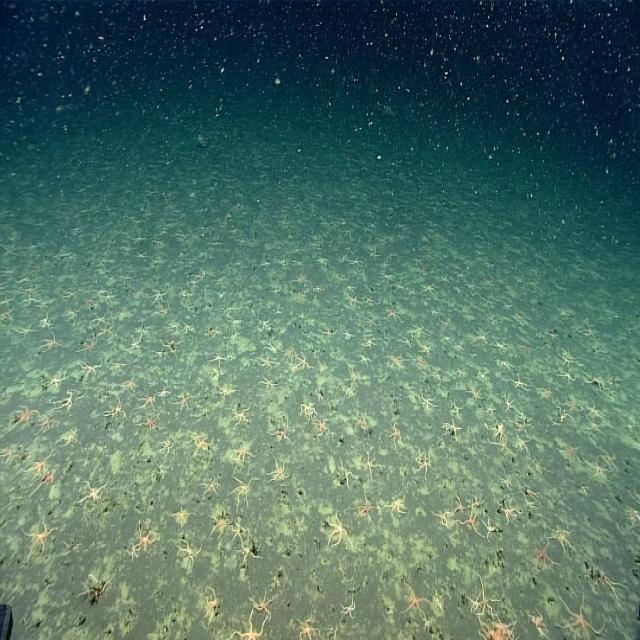brittle-stars: (556, 583, 608, 640), (22, 518, 55, 558), (581, 451, 615, 488), (224, 614, 270, 640), (76, 572, 115, 601), (400, 580, 428, 620), (452, 504, 486, 535), (601, 570, 628, 608), (326, 513, 352, 551), (475, 578, 501, 616), (529, 536, 556, 572), (247, 586, 275, 620), (290, 615, 326, 640), (350, 493, 376, 527), (228, 475, 257, 505), (79, 480, 108, 508), (176, 538, 202, 568), (266, 456, 293, 484), (135, 520, 157, 553), (506, 367, 532, 394), (525, 611, 549, 640), (14, 403, 38, 431), (554, 528, 577, 557), (498, 501, 522, 526), (584, 374, 612, 395), (202, 591, 220, 623), (414, 450, 432, 481), (340, 458, 358, 489), (197, 477, 220, 501), (429, 506, 453, 529), (27, 458, 52, 480), (416, 388, 438, 413), (560, 438, 578, 468), (270, 421, 292, 445), (171, 504, 193, 528), (240, 542, 260, 568), (140, 410, 158, 438), (79, 357, 103, 378), (96, 317, 114, 344), (46, 372, 68, 394), (229, 404, 250, 427), (105, 400, 126, 422), (384, 495, 406, 516), (600, 444, 620, 467), (340, 594, 357, 621), (212, 510, 227, 540), (41, 335, 62, 356), (54, 391, 76, 411), (443, 417, 462, 440), (473, 323, 490, 348), (233, 443, 254, 463), (555, 347, 575, 368), (55, 429, 77, 448), (149, 284, 168, 306), (623, 503, 639, 529), (513, 431, 531, 454), (388, 426, 405, 450), (120, 372, 137, 396), (364, 452, 378, 481), (215, 382, 236, 401), (39, 414, 57, 436), (174, 392, 192, 414), (78, 336, 96, 358), (232, 522, 247, 548), (137, 390, 156, 410), (313, 416, 331, 437), (89, 310, 110, 328), (560, 365, 577, 387), (300, 399, 316, 422), (585, 417, 604, 436), (465, 382, 483, 402), (259, 372, 279, 390), (522, 484, 542, 502), (384, 304, 402, 324), (187, 428, 206, 446), (410, 320, 428, 339), (502, 387, 515, 413), (494, 418, 506, 446), (450, 494, 465, 515), (257, 353, 276, 369), (415, 341, 433, 357), (128, 333, 143, 352), (388, 356, 408, 370), (556, 403, 570, 423), (209, 352, 225, 369), (296, 354, 311, 372), (492, 336, 508, 352), (0, 446, 15, 463), (180, 319, 197, 334), (535, 384, 552, 399), (83, 295, 98, 311), (587, 400, 601, 417), (256, 315, 270, 332), (484, 402, 496, 420), (412, 356, 430, 368), (157, 437, 171, 452), (356, 352, 372, 365), (400, 335, 414, 349), (150, 348, 166, 360), (518, 342, 531, 354), (500, 476, 511, 490)
